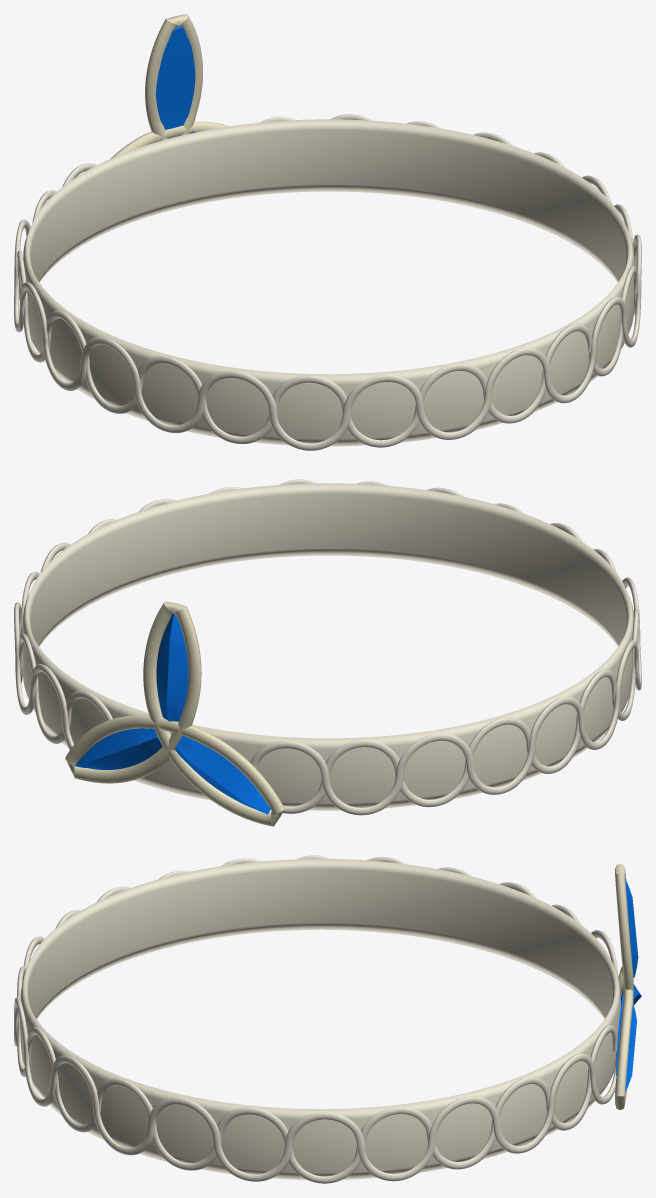
File: crown3.fbx
The picture shows the model from 3 angles, top to bottom: view 1: azimuth 30°, elevation 25°; view 2: azimuth 150°, elevation 25°; view 3: azimuth 270°, elevation 25°; orthographic projection.
Visible parts, largest first — view 1: pPipe7, MASH1_ReproMesh1, MASH1_ReproMesh, pCylinder4, pCylinder5; view 2: pPipe7, pCylinder4, MASH1_ReproMesh1, MASH1_ReproMesh, pCylinder7, pCylinder5, pCylinder6; view 3: pPipe7, MASH1_ReproMesh1, MASH1_ReproMesh, pCylinder4, pCylinder6, pCylinder5.
Part boxes in pixels (<box>): pPipe7: <box>23,119,634,446</box>; MASH1_ReproMesh1: <box>14,114,641,450</box>; MASH1_ReproMesh: <box>17,116,637,447</box>; pCylinder4: <box>110,14,229,158</box>; pCylinder5: <box>156,26,195,129</box>; pPipe7: <box>22,483,633,810</box>; pCylinder4: <box>65,601,284,826</box>; MASH1_ReproMesh1: <box>14,479,641,815</box>; MASH1_ReproMesh: <box>18,481,638,813</box>; pCylinder7: <box>175,736,270,814</box>; pCylinder5: <box>156,613,188,721</box>; pCylinder6: <box>75,728,162,769</box>; pPipe7: <box>20,859,620,1179</box>; MASH1_ReproMesh1: <box>14,856,618,1181</box>; MASH1_ReproMesh: <box>17,855,617,1183</box>; pCylinder4: <box>615,863,633,1109</box>; pCylinder6: <box>615,994,636,1092</box>; pCylinder5: <box>625,879,638,977</box>.
Size of the model in its own units: 6.1 by 2.12 by 6.22.
